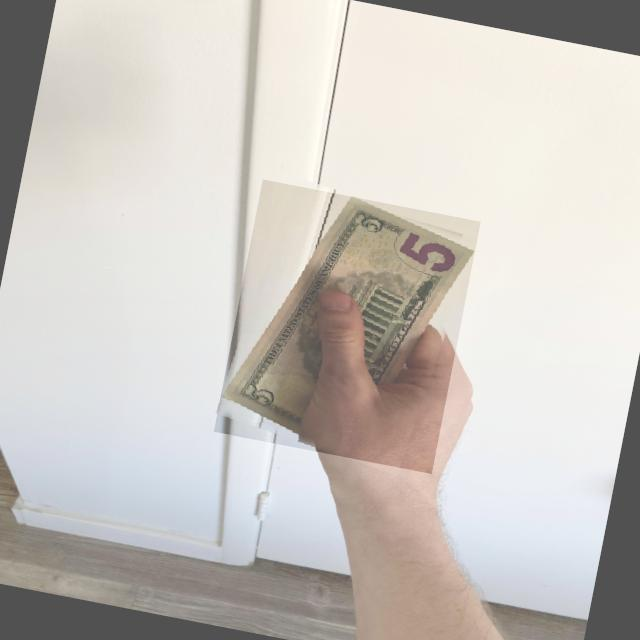five: (221, 179, 475, 470)
